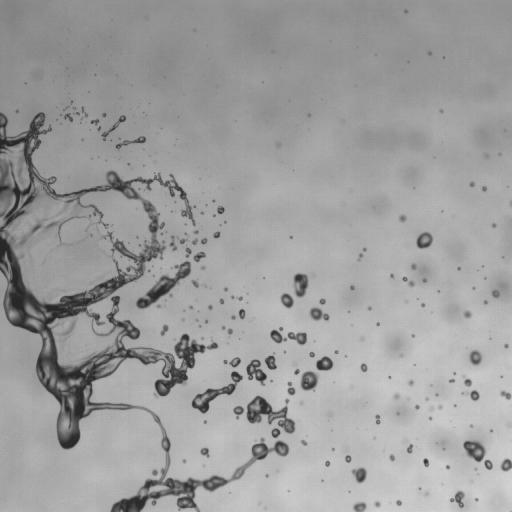droplet: (246, 359, 267, 386), (293, 273, 309, 297), (300, 371, 319, 391), (416, 232, 433, 249), (309, 307, 329, 321), (351, 467, 367, 483), (316, 356, 333, 370), (450, 490, 464, 507), (280, 293, 293, 308), (462, 390, 479, 401), (469, 350, 481, 365), (264, 354, 276, 369), (500, 458, 511, 471), (193, 251, 205, 262), (353, 502, 366, 511), (287, 381, 295, 395), (500, 390, 511, 399), (200, 447, 209, 457), (160, 324, 168, 335), (463, 376, 471, 386), (238, 309, 245, 319), (64, 113, 72, 121), (360, 363, 367, 372), (185, 247, 191, 257), (217, 205, 224, 213), (464, 310, 471, 318), (406, 444, 412, 453), (213, 231, 220, 238), (492, 290, 499, 297), (393, 392, 400, 399), (375, 415, 380, 424), (399, 215, 406, 221), (192, 280, 198, 287), (345, 455, 351, 462), (423, 458, 428, 466), (201, 238, 207, 244), (319, 298, 325, 304), (374, 501, 380, 507), (91, 119, 98, 124), (389, 454, 394, 461), (469, 181, 474, 187), (191, 239, 197, 244), (411, 263, 416, 269), (325, 460, 330, 466), (358, 253, 362, 260), (309, 352, 314, 357), (408, 380, 413, 385), (437, 404, 442, 409), (301, 440, 306, 445), (396, 500, 401, 505), (83, 111, 87, 116), (482, 186, 486, 191), (59, 241, 64, 245), (350, 285, 354, 290), (219, 299, 223, 304), (429, 406, 433, 411), (102, 113, 106, 117), (492, 223, 496, 227), (194, 230, 198, 234), (422, 278, 426, 282), (421, 303, 425, 307), (208, 305, 212, 309), (231, 315, 235, 319), (504, 344, 508, 348), (415, 405, 419, 409), (507, 423, 511, 427), (182, 459, 186, 463), (424, 492, 428, 496), (449, 379, 454, 382), (363, 247, 366, 251), (201, 265, 204, 269), (390, 274, 393, 278), (157, 304, 160, 308), (189, 305, 192, 309), (446, 465, 449, 469), (440, 109, 443, 112), (97, 127, 100, 130), (485, 154, 488, 157), (224, 287, 227, 290), (484, 301, 487, 304), (360, 337, 363, 340), (425, 397, 428, 400), (404, 10, 407, 12), (428, 52, 431, 54), (277, 142, 279, 145), (78, 240, 81, 242), (457, 267, 460, 269), (368, 307, 371, 309), (376, 323, 379, 325), (335, 350, 337, 353), (429, 417, 432, 419), (470, 424, 472, 427), (490, 429, 492, 432), (70, 101, 72, 103), (64, 107, 66, 109), (16, 110, 18, 112), (75, 112, 77, 114), (472, 287, 474, 289), (182, 318, 184, 320), (412, 334, 414, 336), (419, 487, 421, 489), (475, 498, 477, 500)
ligament: (0, 112, 287, 511), (136, 261, 191, 308), (191, 371, 242, 412), (463, 440, 492, 469), (270, 326, 307, 345), (101, 115, 125, 139), (115, 136, 146, 148), (223, 357, 241, 367), (402, 276, 414, 287), (169, 235, 177, 250), (222, 326, 232, 336), (179, 233, 188, 243), (293, 364, 300, 374), (85, 222, 92, 230), (231, 296, 242, 300), (510, 201, 511, 205)
